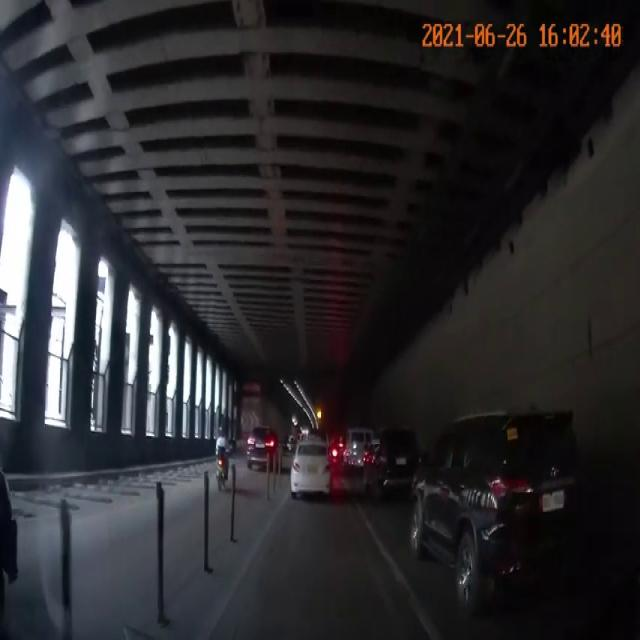car: (407, 402, 583, 618), (363, 423, 426, 503), (290, 443, 340, 517), (241, 420, 278, 468), (344, 423, 371, 462)
motorcycle: (207, 410, 233, 484)
